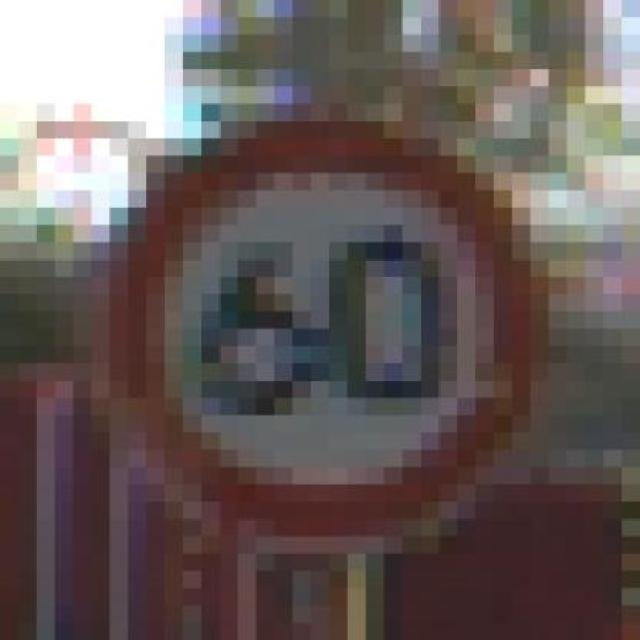forb_speed_over_60: (97, 121, 535, 539)
